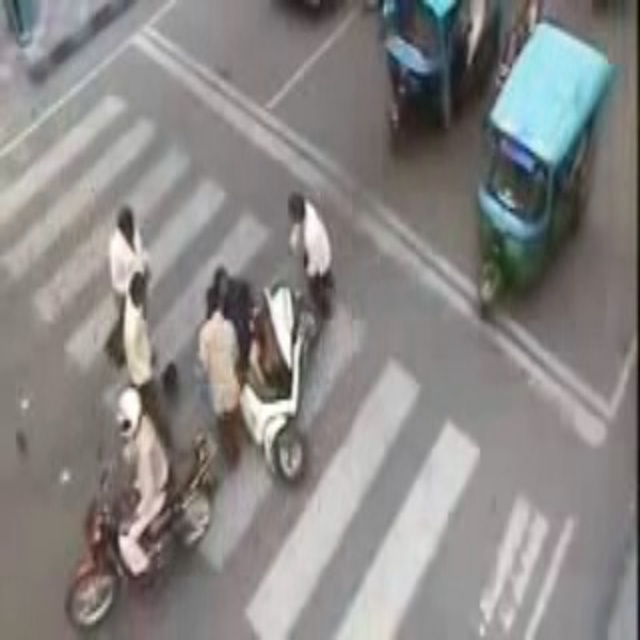acc: (194, 264, 323, 478)
